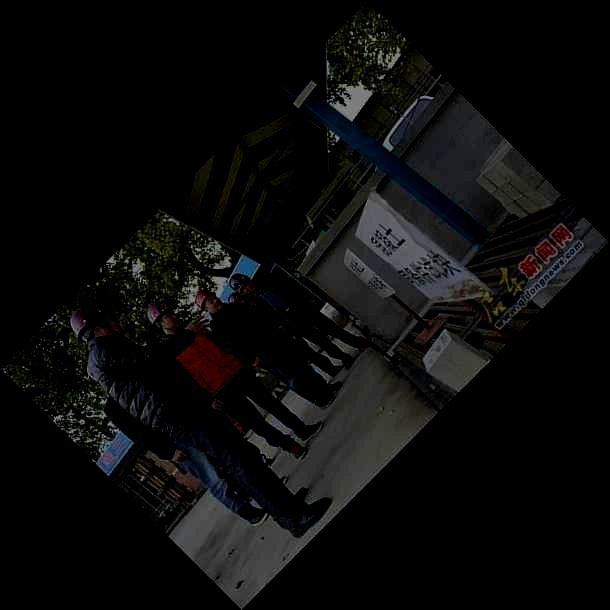helmet: (70, 308, 114, 344), (147, 303, 181, 331), (194, 290, 223, 315), (229, 273, 254, 295)
